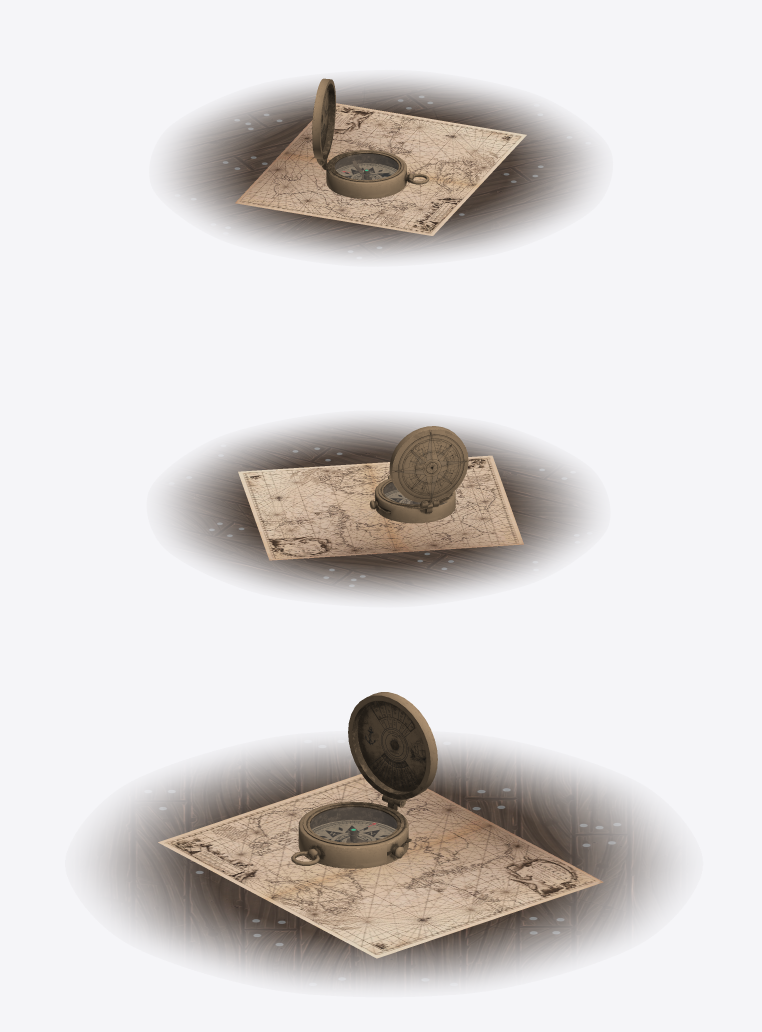
Rendered from compass.glb.
The picture shows the model from 3 angles, top to bottom: view 1: azimuth 30°, elevation 25°; view 2: azimuth 150°, elevation 25°; view 3: azimuth 270°, elevation 25°; orthographic projection. The views are drawn at different scales.
Parts seen in each view (by area): view 1: Object_4, Object_2, Object_3; view 2: Object_4, Object_2, Object_3; view 3: Object_4, Object_2, Object_3.
Boxes of the visible parts, x1,y1,x2,y2 form: Object_4: [170, 79, 591, 257]; Object_2: [235, 103, 526, 235]; Object_3: [312, 78, 429, 198]; Object_4: [168, 419, 588, 598]; Object_2: [238, 455, 523, 560]; Object_3: [369, 426, 468, 523]; Object_4: [94, 743, 673, 984]; Object_2: [158, 774, 603, 958]; Object_3: [291, 692, 437, 868].
Size of the model in its own units: 13.31 by 2.64 by 13.31.
3 materials, 3 textured.
